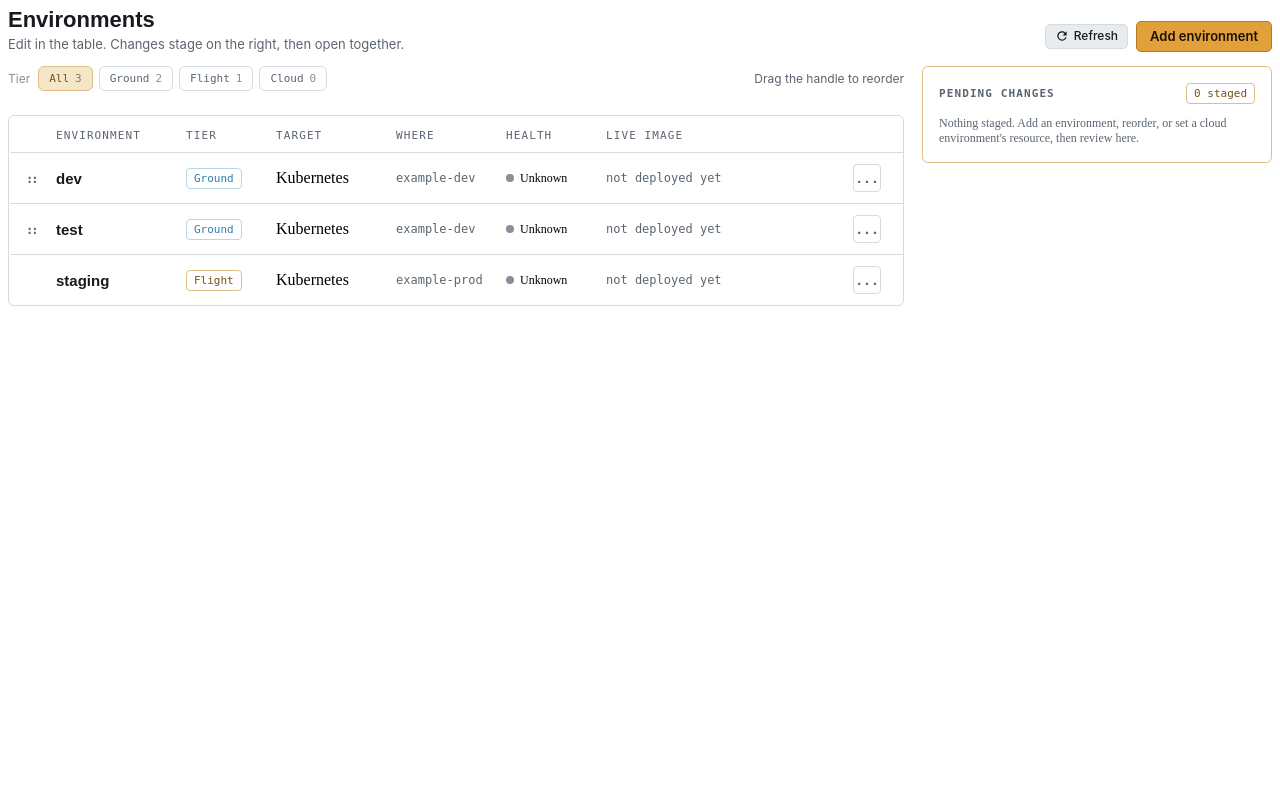
Test: EnvironmentsTab: staging a Ground environment › refuses an invalid name
This screenshot has width=1280, height=800.
Click the button "Add environment" at (1204, 36), box x1=1136 y1=21 x2=1272 y2=52
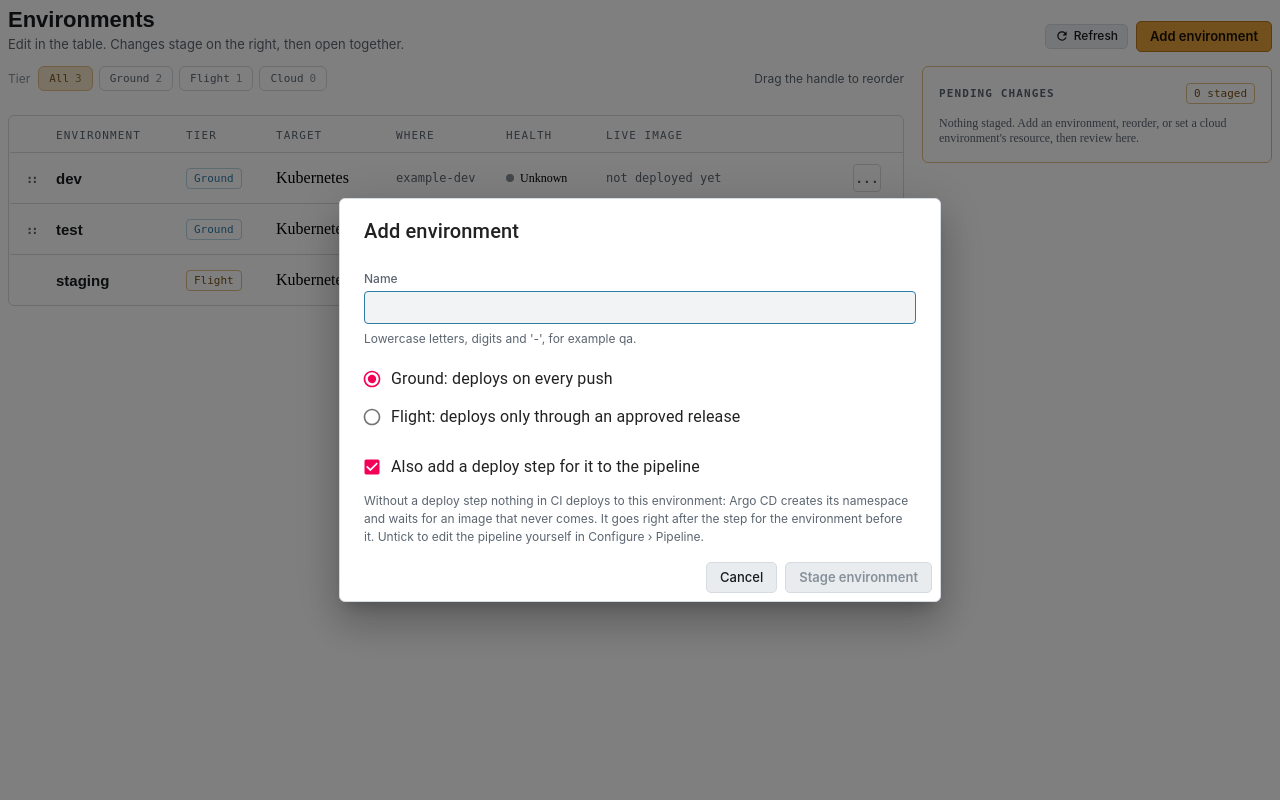
Type "QA team" into the field labelled "Name" at (640, 307), box x1=364 y1=291 x2=916 y2=324
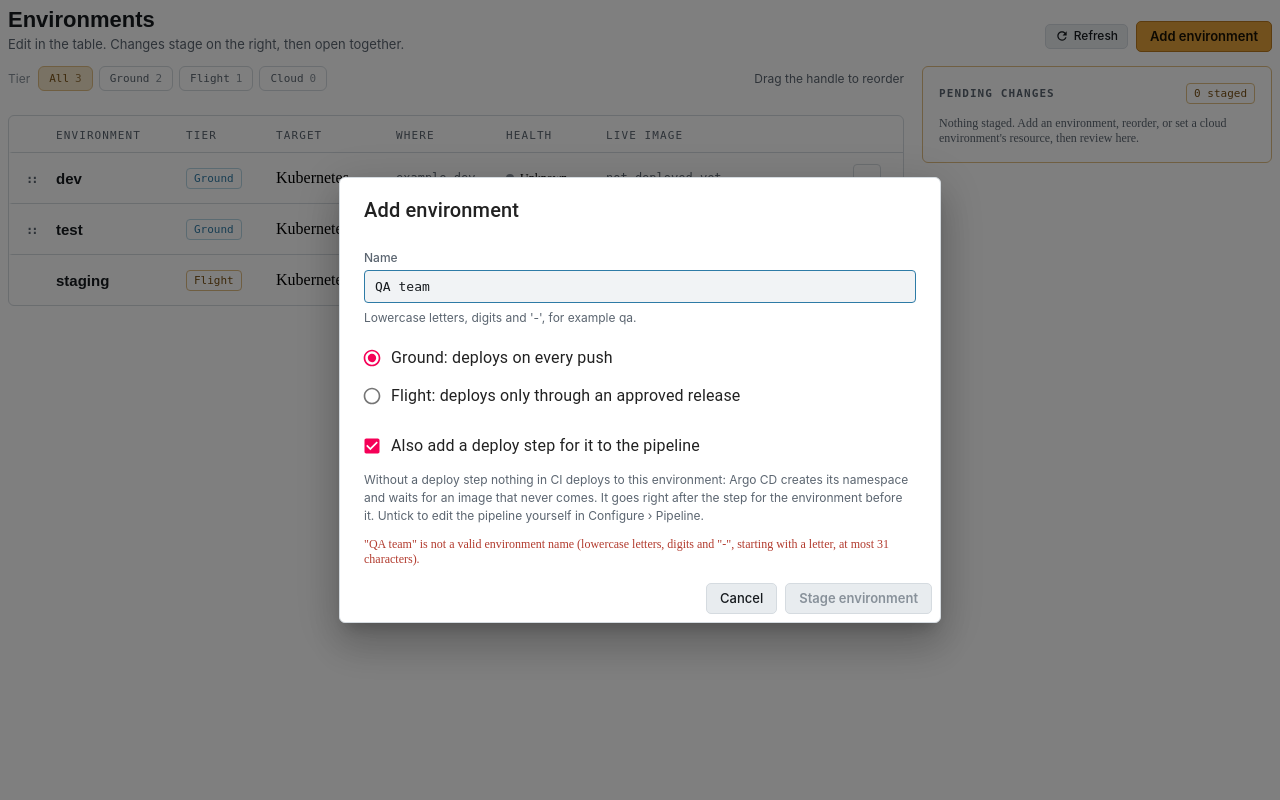
Check: the text "not a valid environment name" is shown, box x1=364 y1=537 x2=889 y2=566
